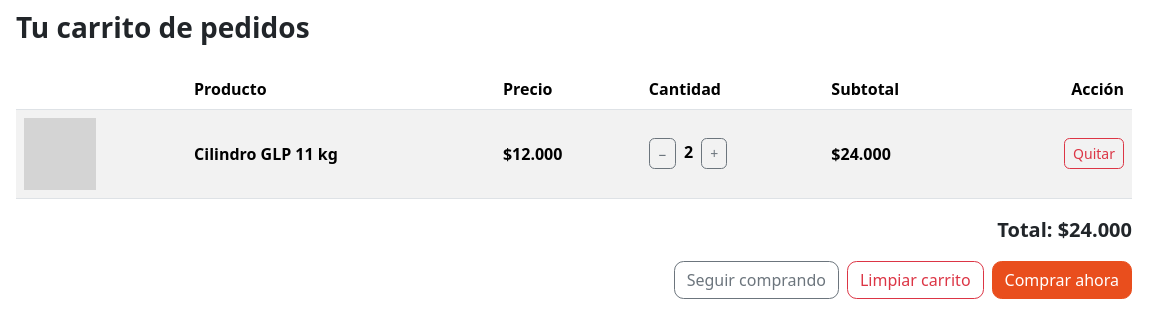
Scenario: <Carrito /> › quita el producto con el botón Quitar
The width and height of the screenshot is (1149, 316).
Click the button "Quitar" at [1094, 154], box [1064,138,1124,169]
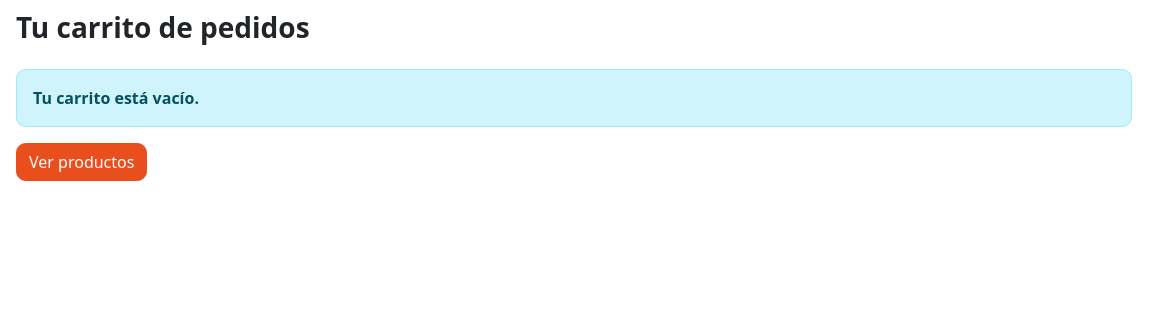
Now the text "Tu carrito está vacío." is shown, box [16,69,1132,127]
